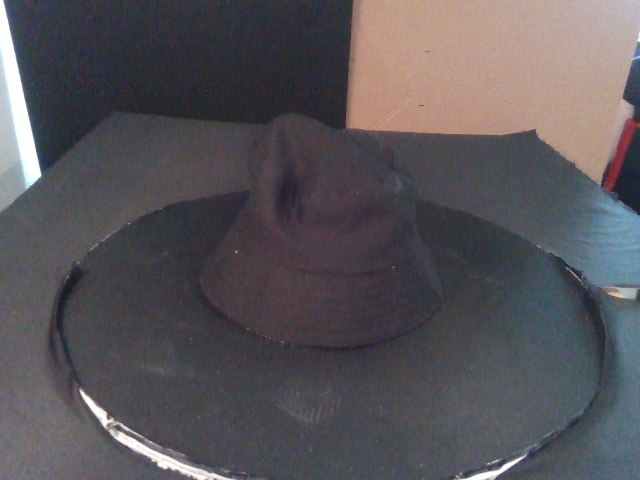hat: (197, 114, 447, 349)
